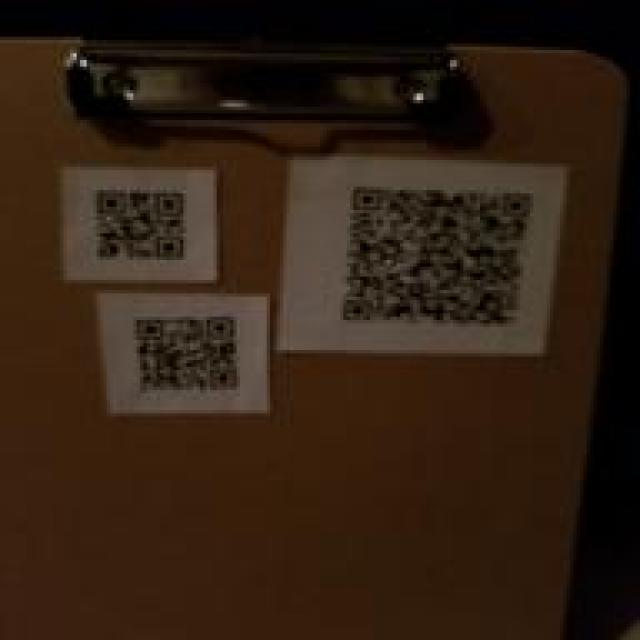qr_code: (341, 186, 533, 328), (135, 316, 239, 393), (95, 191, 186, 262)
